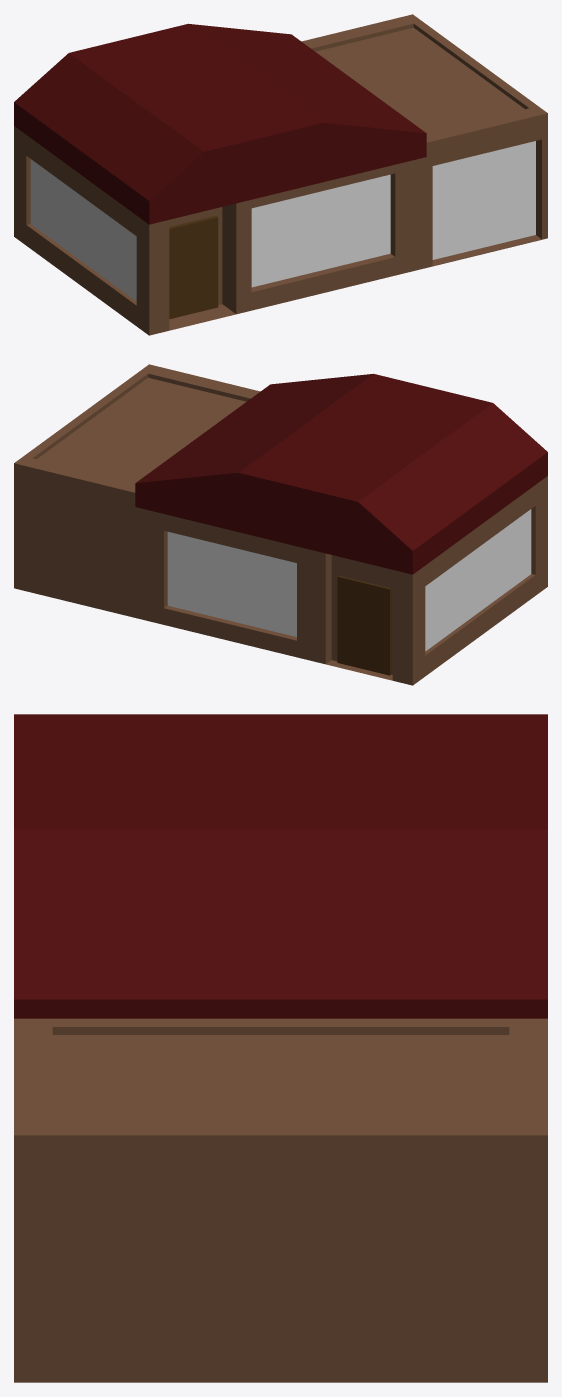
Rendered from house 3.fbx.
The picture shows the model from 3 angles, top to bottom: view 1: azimuth 30°, elevation 25°; view 2: azimuth 150°, elevation 25°; view 3: azimuth 270°, elevation 25°; orthographic projection. The views are drawn at different scales.
Parts seen in each view (by area): view 1: Cube; view 2: Cube; view 3: Cube.
Boxes of the visible parts, <box> form: Cube: <box>14,14,547,335</box>; Cube: <box>14,364,547,685</box>; Cube: <box>14,714,547,1382</box>.
Bounding box in the file's own units: 620 × 254 × 364.
